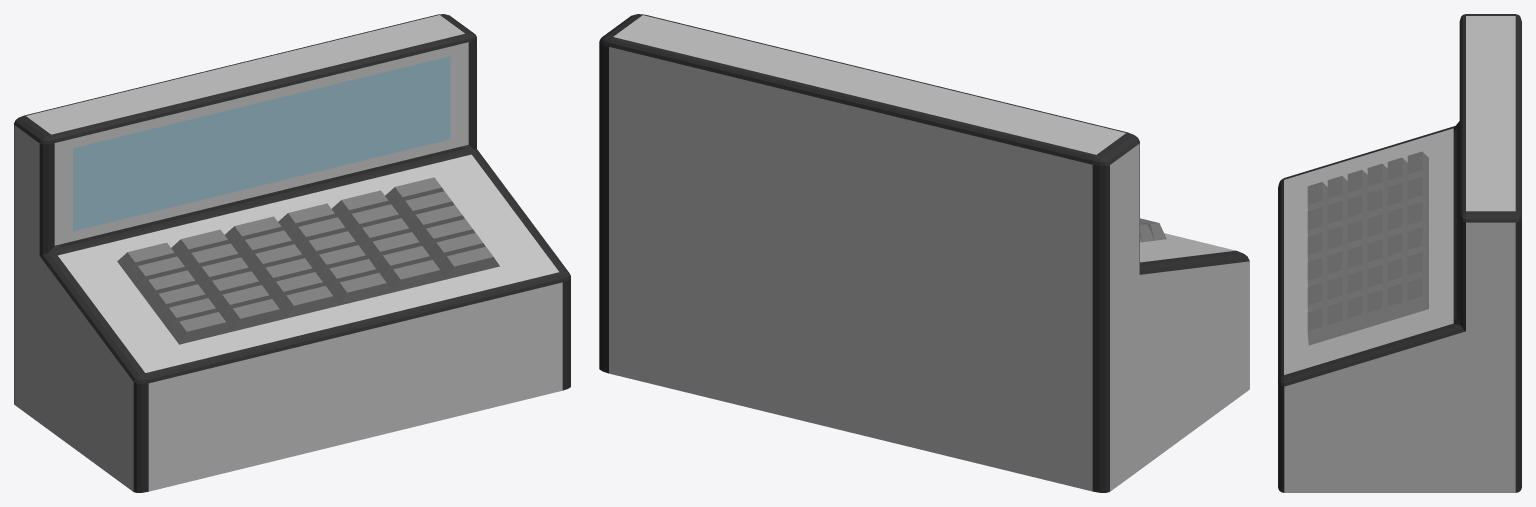
The model's file is Panel.fbx.
3 renders of one model, left to right at view 1: azimuth 30°, elevation 25°; view 2: azimuth 150°, elevation 25°; view 3: azimuth 270°, elevation 25°, orthographic. The views are drawn at different scales.
Visible parts, largest first — view 1: Plane; view 2: Plane; view 3: Plane.
Part boxes in pixels (x1=…): Plane: x1=14, y1=14, x2=570, y2=492; Plane: x1=599, y1=14, x2=1249, y2=492; Plane: x1=1278, y1=14, x2=1521, y2=492.
Bounding box in the file's own units: 200 × 125 × 100.
